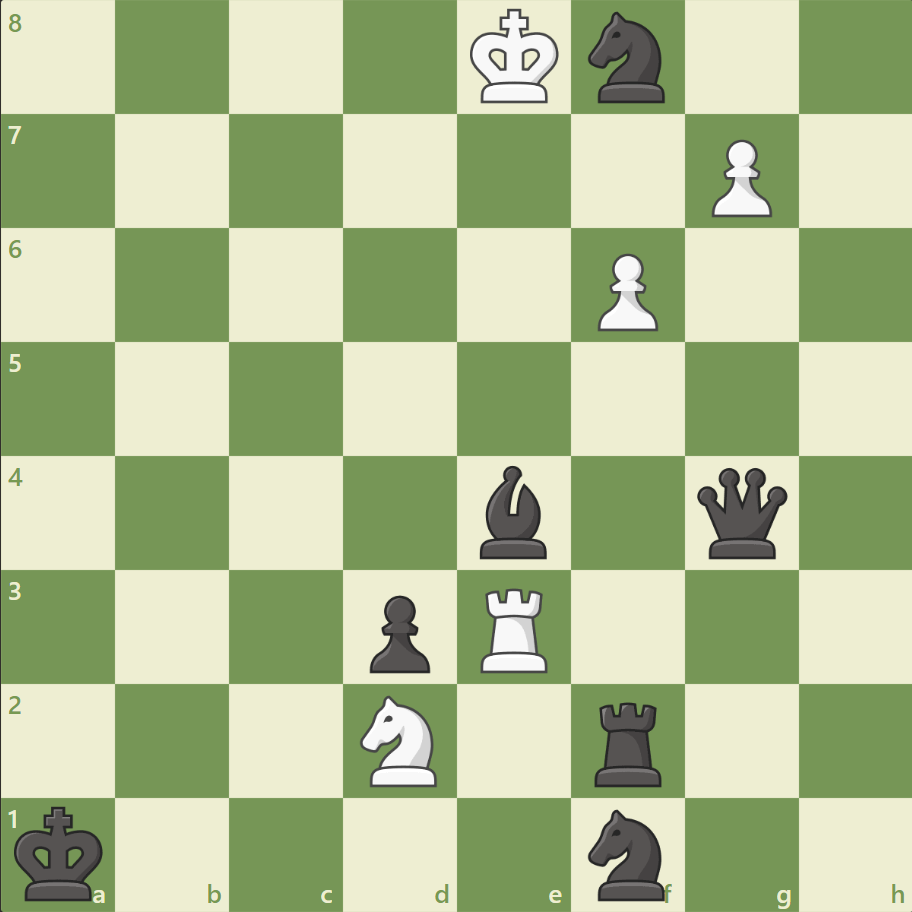K: (465, 4, 565, 112)
N: (351, 688, 449, 791)
P: (701, 132, 776, 223), (588, 246, 662, 337)
R: (473, 579, 556, 676)
b: (471, 460, 555, 563)
k: (11, 798, 111, 906)
n: (579, 7, 676, 110), (579, 802, 676, 904)
p: (361, 586, 435, 677)
q: (691, 463, 790, 562)
r: (587, 693, 670, 790)
